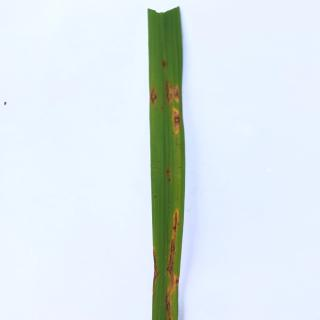Blast: (157, 212, 185, 317), (168, 105, 187, 140), (162, 76, 184, 105), (149, 85, 159, 105)
